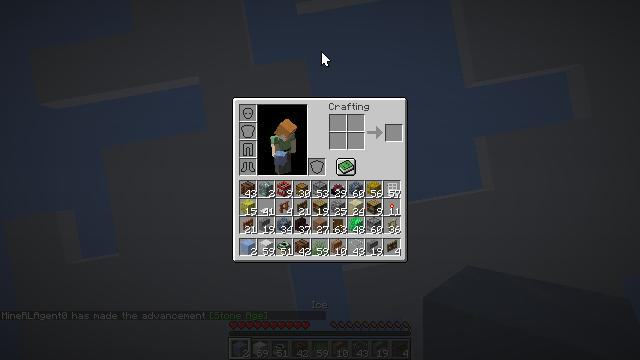cursor: (51, 321, 67, 331)
